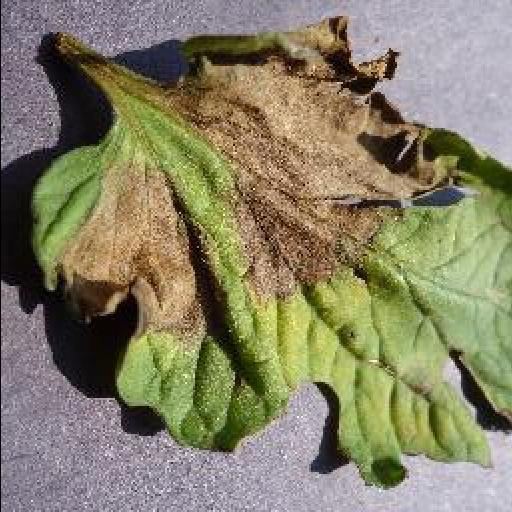disease_tomato: (32, 10, 512, 488)
